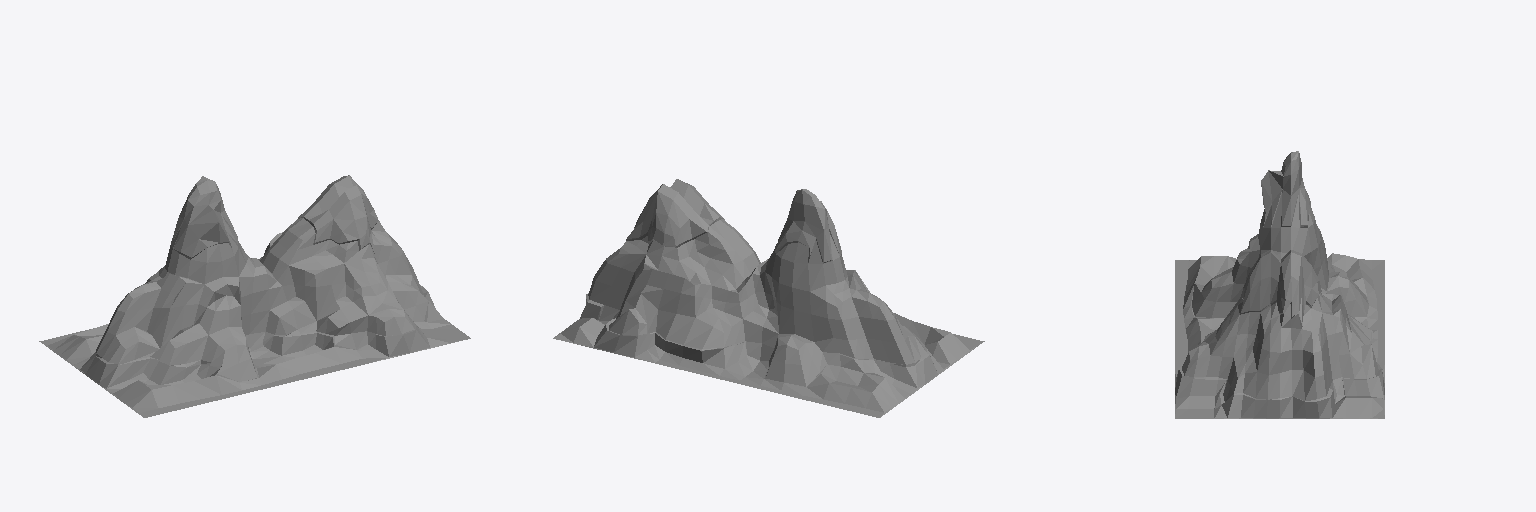
The model's file is MountainWinter1.obj.
The picture shows the model from 3 angles: view 1: azimuth 30°, elevation 25°; view 2: azimuth 150°, elevation 25°; view 3: azimuth 270°, elevation 25°; orthographic projection.
Parts seen in each view (by area): view 1: Mountain_winter_005_Mesh.006; view 2: Mountain_winter_005_Mesh.006; view 3: Mountain_winter_005_Mesh.006.
Part boxes in pixels (left/top/right/bottom): Mountain_winter_005_Mesh.006: left=39, top=175, right=470, bottom=417; Mountain_winter_005_Mesh.006: left=553, top=179, right=984, bottom=417; Mountain_winter_005_Mesh.006: left=1175, top=151, right=1384, bottom=418.
Bounding box in the file's own units: 0.6496 × 0.3174 × 0.3599.